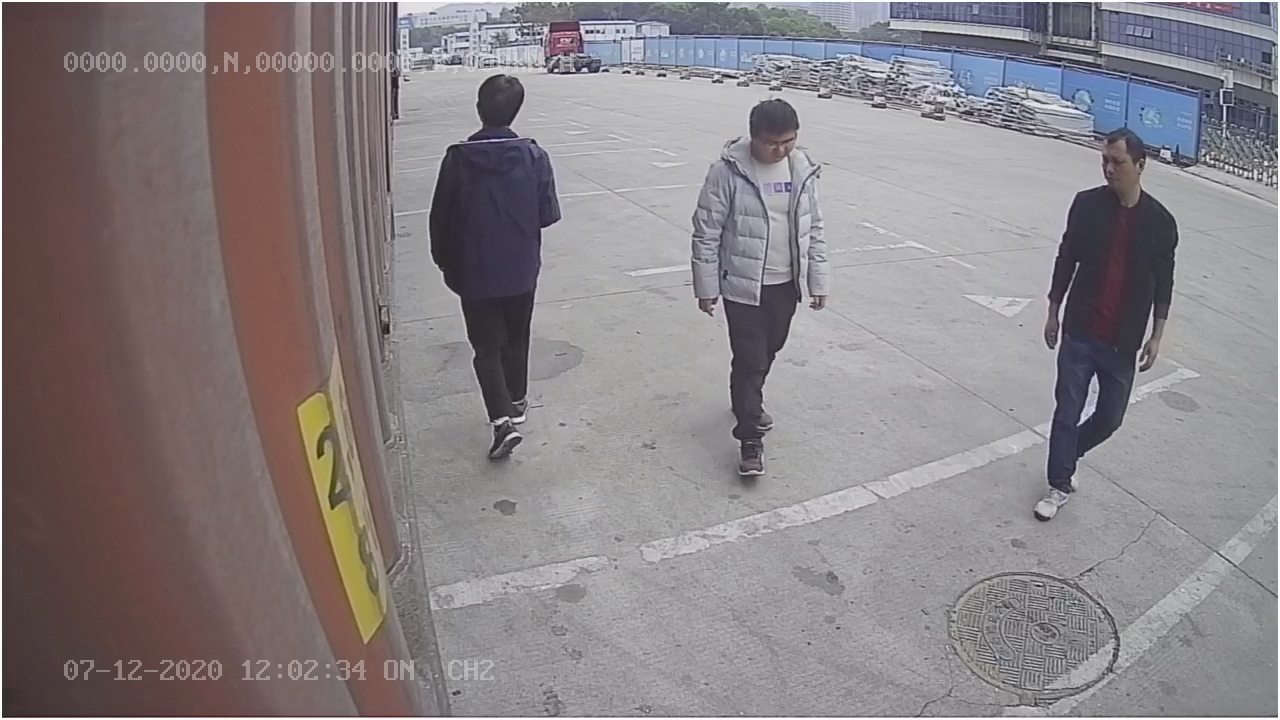person: (1032, 120, 1182, 527), (693, 93, 835, 482), (425, 71, 565, 462)
